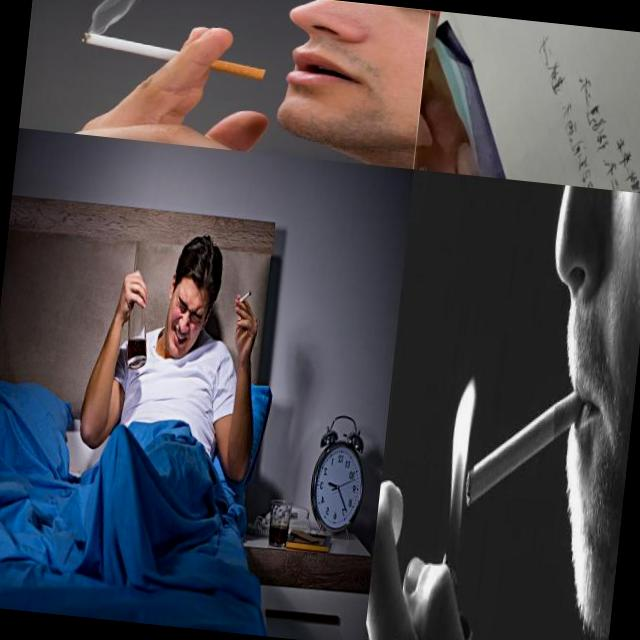smoke: (462, 370, 592, 520), (78, 30, 268, 80), (416, 10, 442, 150), (234, 286, 252, 308)
